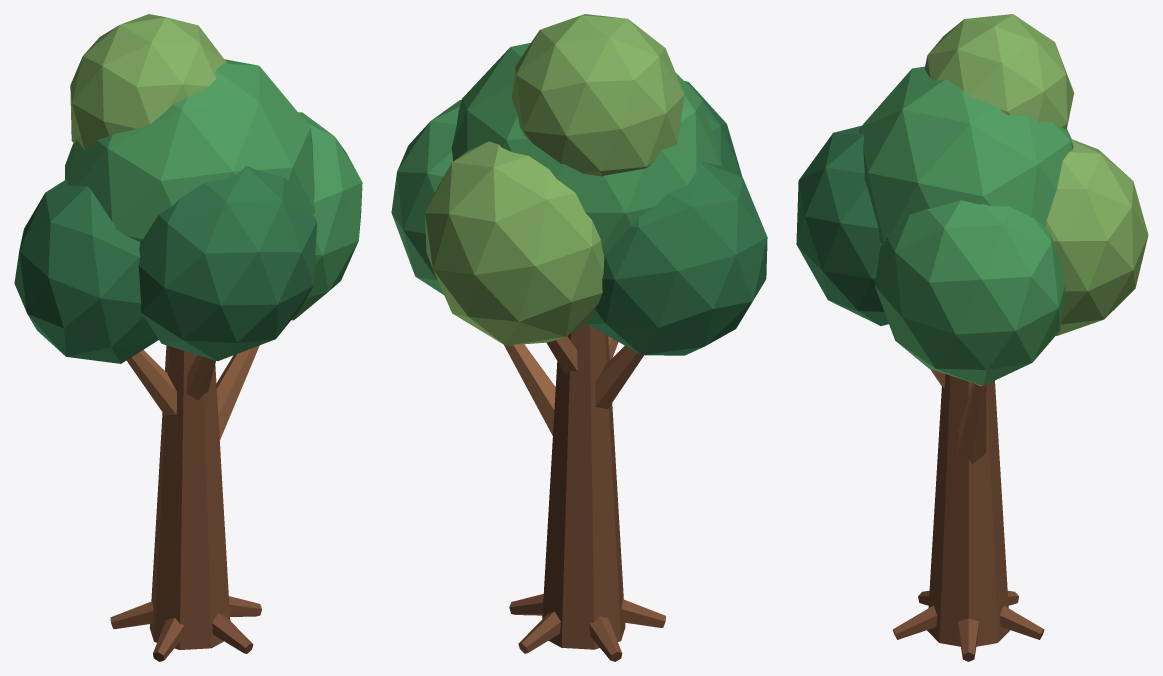
The model's file is fantasy-tree.glb.
The picture shows the model from 3 angles, left to right: view 1: azimuth 30°, elevation 25°; view 2: azimuth 150°, elevation 25°; view 3: azimuth 270°, elevation 25°; orthographic projection. The views are drawn at different scales.
Parts seen in each view (by area): view 1: Leaf_Canopy_04, Leaf_Canopy_00, Leaf_Canopy_01, Tree_Trunk, Leaf_Canopy_05, Leaf_Canopy_02, Tree_Branch_00, Tree_Branch_01, Tree_Branch_03, Tree_Root_04, Tree_Root_03, Tree_Root_02 (+1 smaller); view 2: Leaf_Canopy_03, Leaf_Canopy_01, Leaf_Canopy_05, Tree_Trunk, Leaf_Canopy_00, Leaf_Canopy_02, Tree_Branch_00, Tree_Branch_01, Leaf_Canopy_04, Tree_Root_01, Tree_Root_02, Tree_Root_03 (+2 smaller); view 3: Leaf_Canopy_02, Leaf_Canopy_00, Tree_Trunk, Leaf_Canopy_03, Leaf_Canopy_04, Leaf_Canopy_05, Tree_Branch_00, Tree_Root_01, Tree_Root_04, Tree_Root_00.
Boxes of the visible parts, x1,y1,x2,y2 form: Leaf_Canopy_04: (138,166,316,361); Leaf_Canopy_00: (65,59,315,241); Leaf_Canopy_01: (14,179,158,363); Tree_Trunk: (149,345,230,649); Leaf_Canopy_05: (70,14,226,150); Leaf_Canopy_02: (291,112,362,320); Tree_Branch_00: (216,345,259,440); Tree_Branch_01: (126,350,176,415); Tree_Branch_03: (186,355,215,400); Tree_Root_04: (212,613,253,653); Tree_Root_03: (153,617,184,661); Tree_Root_02: (110,601,153,628); Leaf_Canopy_03: (425,141,604,345); Leaf_Canopy_01: (587,162,767,355); Leaf_Canopy_05: (511,14,684,176); Tree_Trunk: (542,322,625,649); Leaf_Canopy_00: (451,43,721,255); Leaf_Canopy_02: (391,99,461,294); Tree_Branch_00: (504,344,555,435); Tree_Branch_01: (595,346,643,409); Leaf_Canopy_04: (684,81,742,177); Tree_Root_01: (518,611,560,653); Tree_Root_02: (589,616,622,661); Tree_Root_03: (621,599,665,627); Leaf_Canopy_02: (874,200,1065,385); Leaf_Canopy_00: (859,66,1073,245); Tree_Trunk: (927,374,1009,646); Leaf_Canopy_03: (1046,139,1148,335); Leaf_Canopy_04: (796,125,888,325); Leaf_Canopy_05: (924,14,1073,129); Tree_Branch_00: (957,383,986,463); Tree_Root_01: (1000,605,1044,639); Tree_Root_04: (892,605,937,639); Tree_Root_00: (958,618,978,661).
Bounding box in the file's own units: 2.51 × 4.46 × 2.38.
